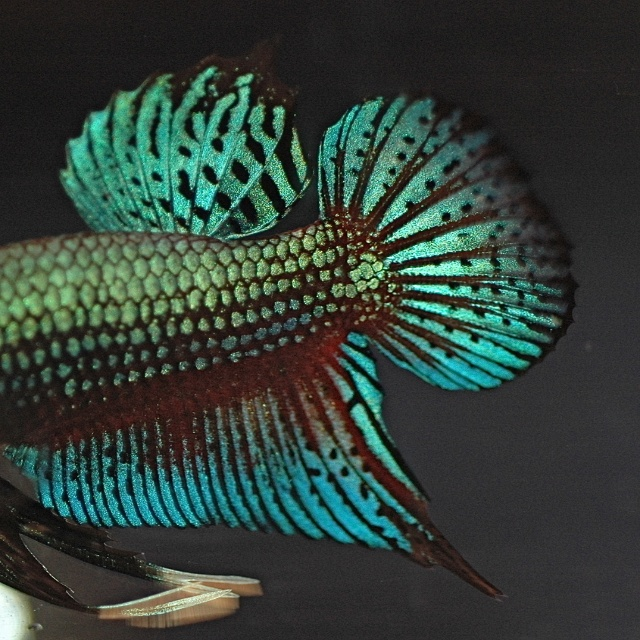Fish: (3, 55, 595, 584)
